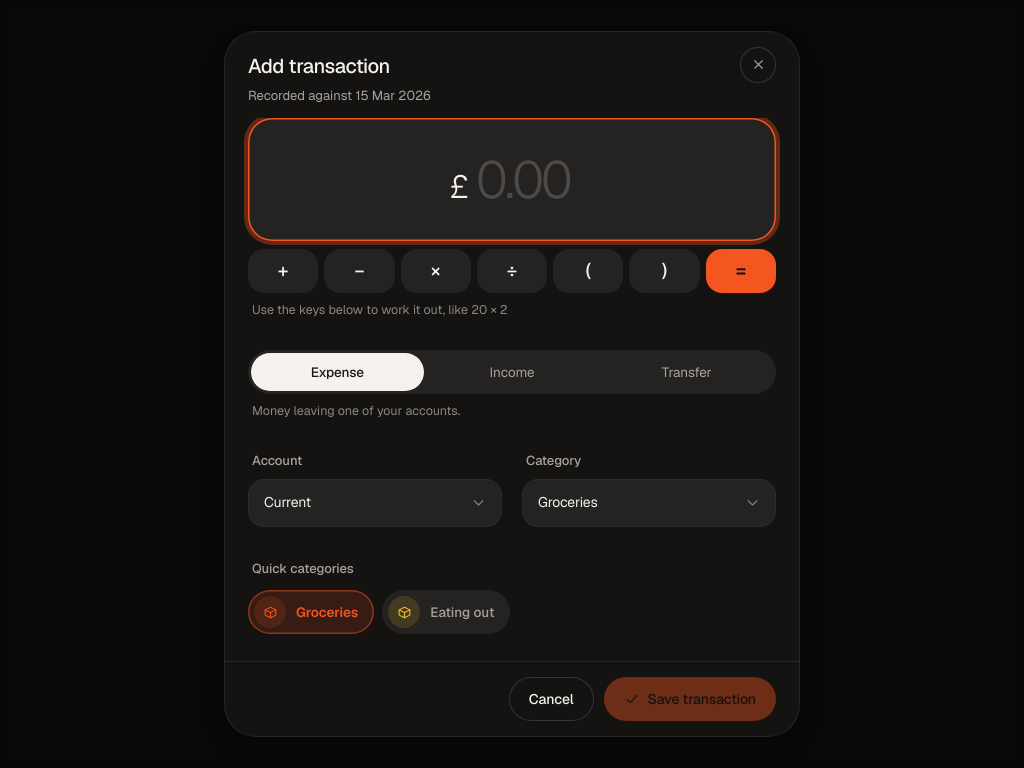
Test: Add transaction › will not transfer an account to itself
Type keys "100"
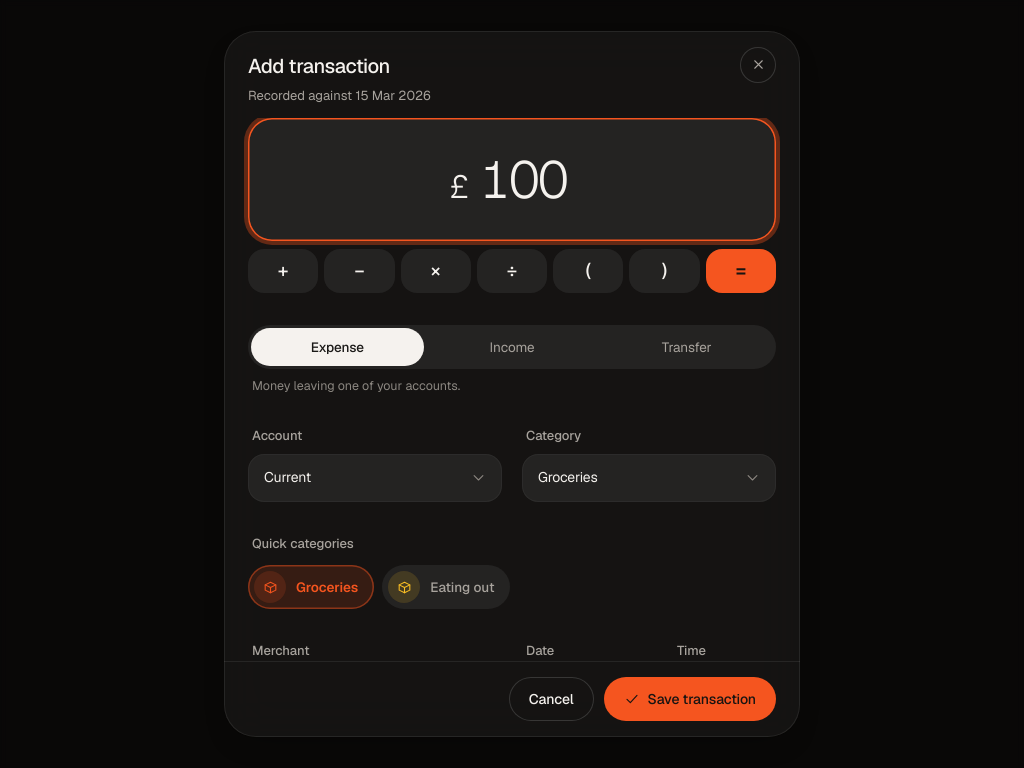
Click the radio button labelled "Transfer" at [687, 347], box [600,328,773,366]
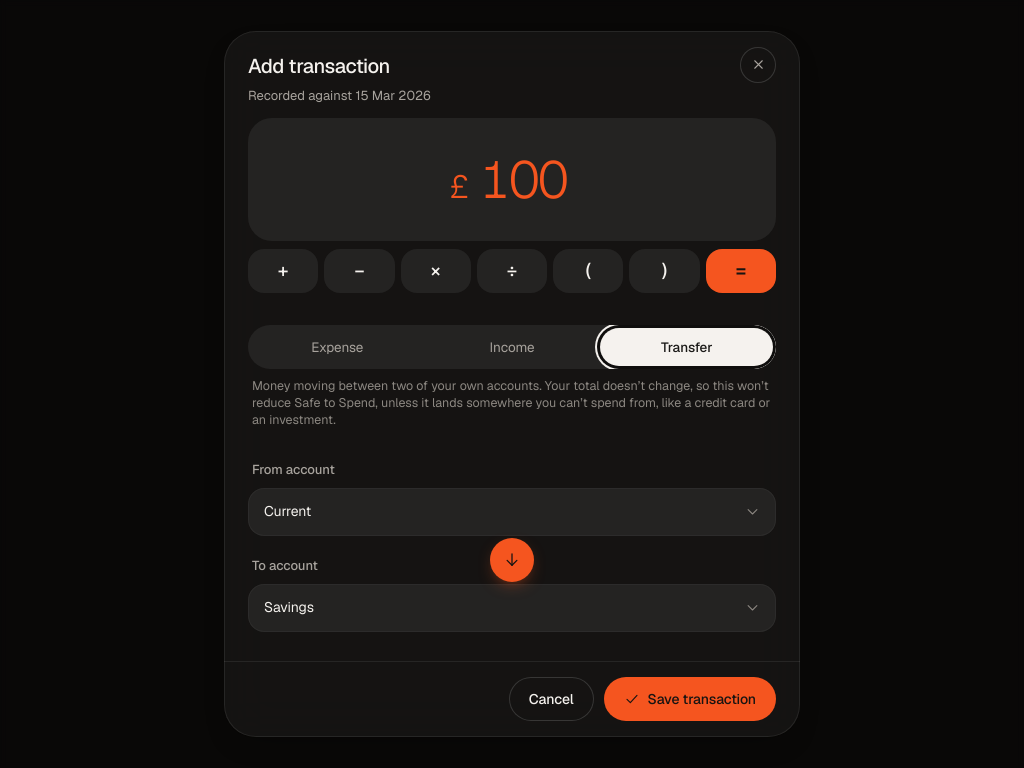
Click the dropdown named "To account" at [289, 607], box [248,584,776,632]
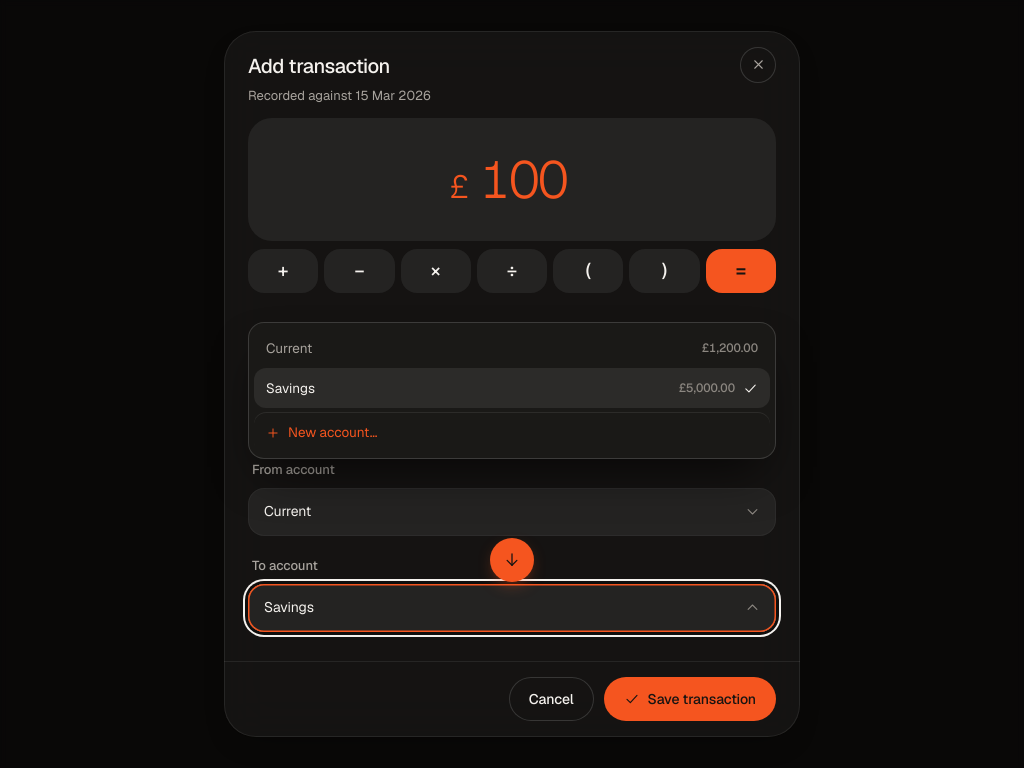
Click the option "Current £1,200.00" at [289, 348], box [266,339,758,357]
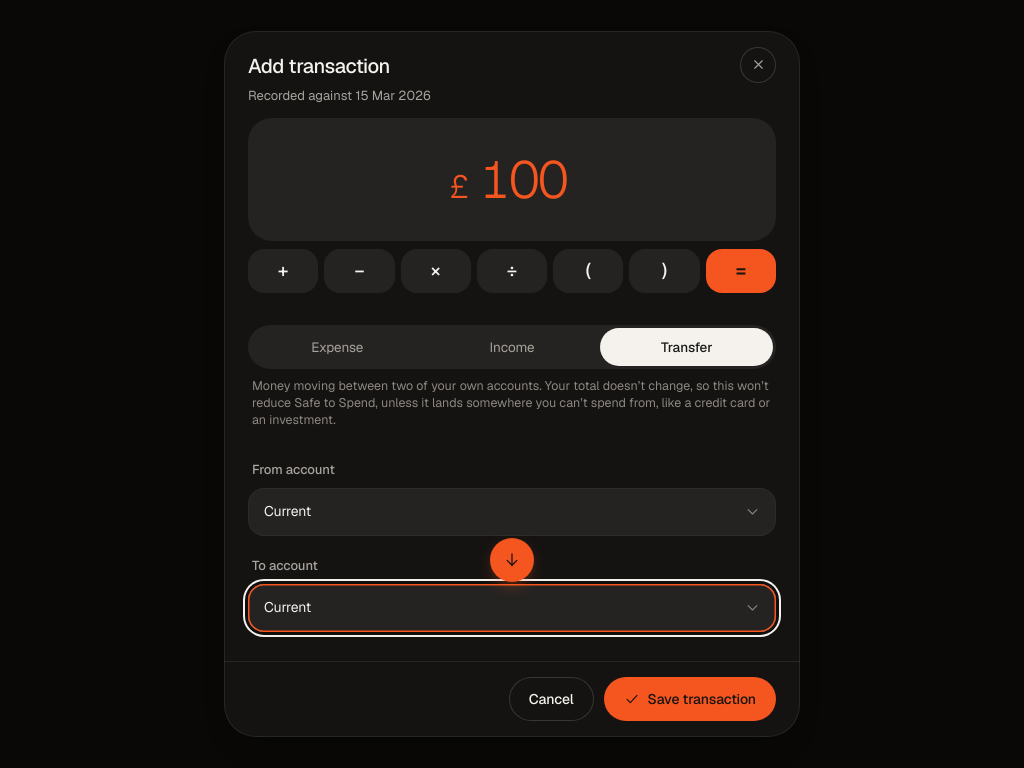
Click the button "Save transaction" at [690, 699], box [604,677,776,721]
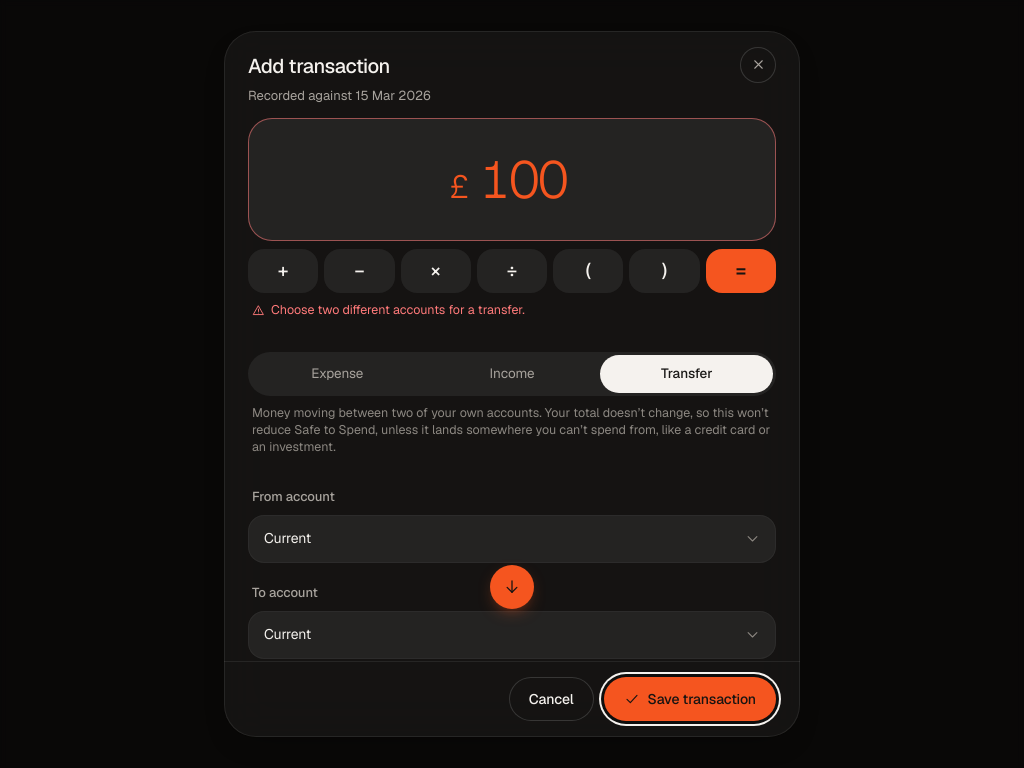
Now the message shows "two different accounts", box [271,301,525,318]
